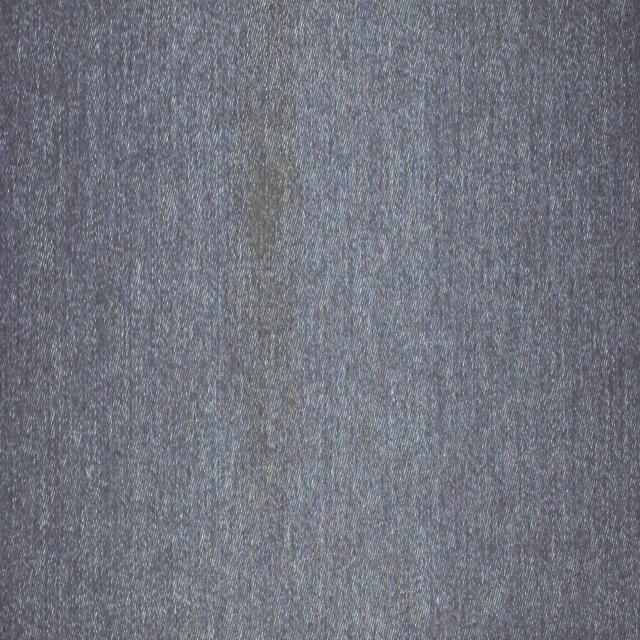Stain: (223, 0, 300, 494)
